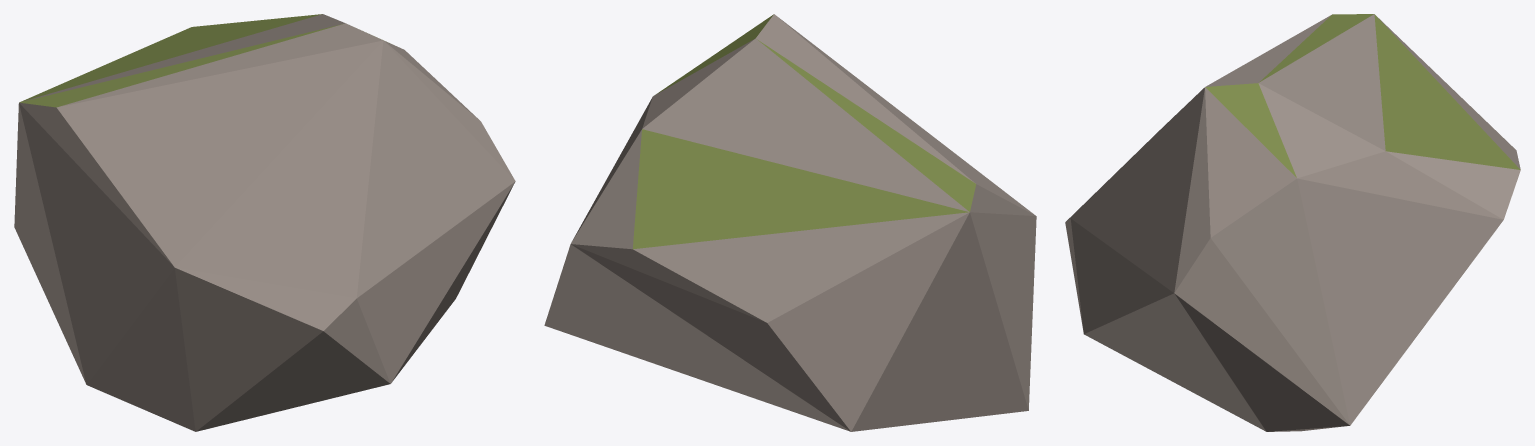
The model's file is rock_a.glb.
3 views of the same model, side by side, from view 1: azimuth 30°, elevation 25°; view 2: azimuth 150°, elevation 25°; view 3: azimuth 270°, elevation 25° (orthographic). The views are drawn at different scales.
Parts seen in each view (by area): view 1: rock_a; view 2: rock_a; view 3: rock_a.
Boxes of the visible parts, x1,y1,x2,y2 form: rock_a: [14, 14, 515, 431]; rock_a: [544, 14, 1036, 431]; rock_a: [1065, 14, 1520, 431].
Bounding box in the file's own units: 0.7819 × 0.5842 × 0.7584.
